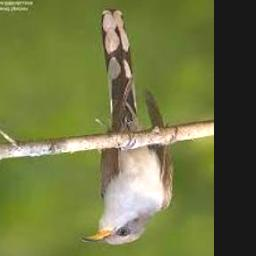Cuckoo: (80, 9, 172, 244)
